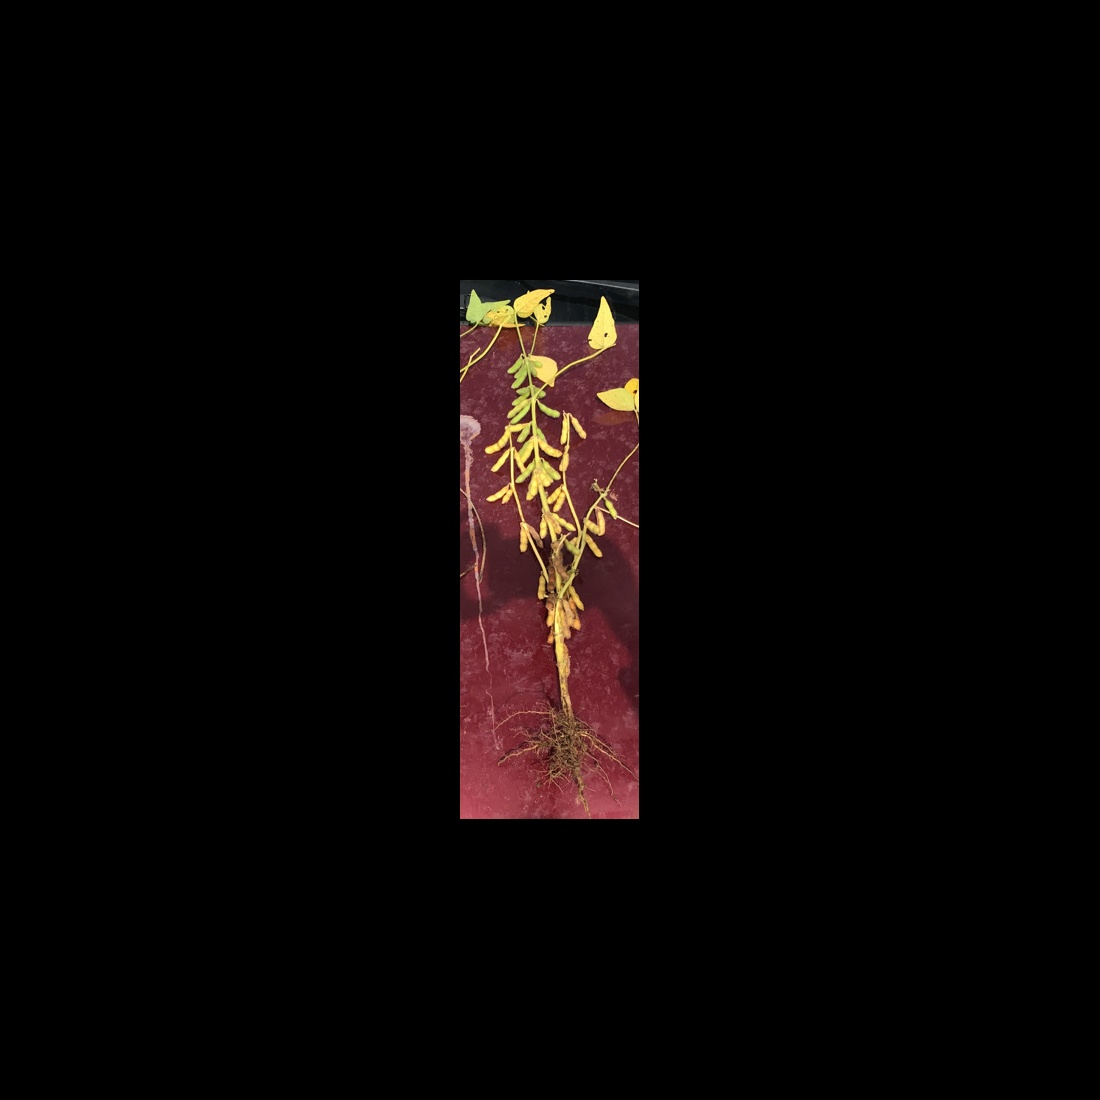pod: (483, 427, 513, 456), (532, 436, 563, 460), (582, 533, 606, 562), (515, 458, 540, 485), (549, 510, 577, 532), (534, 399, 561, 420), (569, 415, 589, 443), (508, 404, 532, 427), (507, 399, 532, 421), (483, 482, 509, 503), (490, 451, 511, 473), (551, 490, 572, 512), (509, 367, 529, 390), (568, 587, 586, 612), (516, 525, 529, 556), (537, 402, 562, 418), (516, 423, 532, 447), (558, 412, 569, 444), (581, 517, 604, 531), (539, 513, 550, 542), (505, 358, 524, 374), (536, 573, 546, 600)
soy: (466, 298, 627, 796)
